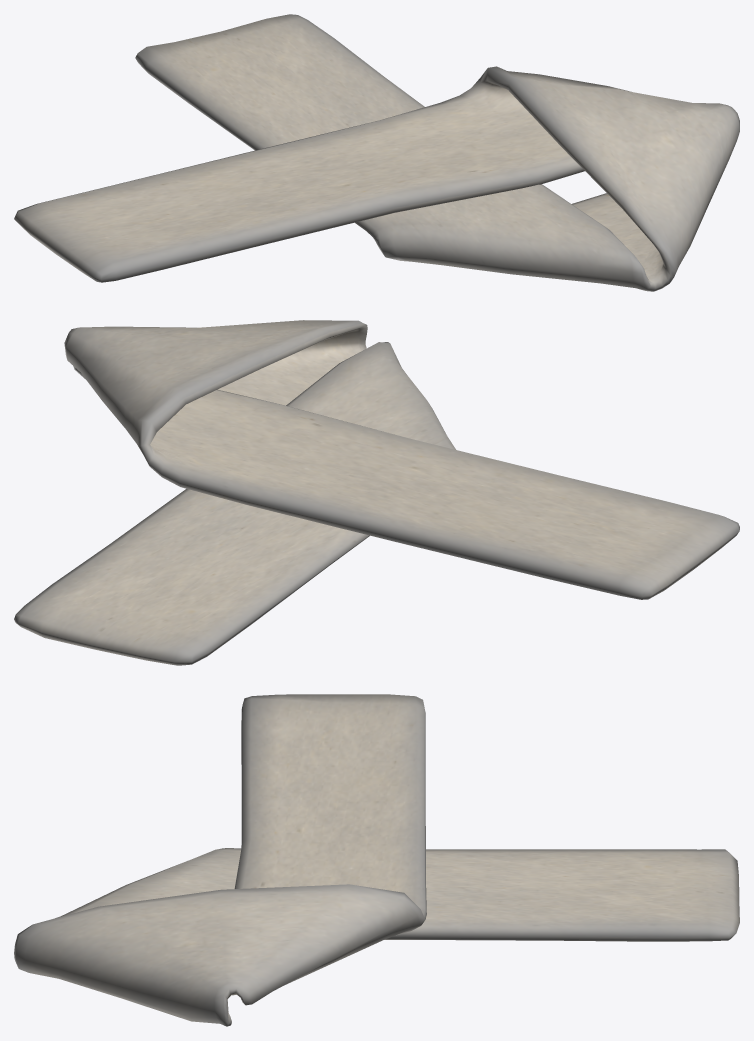
File: foldednote1.obj
3 renders of one model, top to bottom at view 1: azimuth 30°, elevation 25°; view 2: azimuth 150°, elevation 25°; view 3: azimuth 270°, elevation 25°, orthographic. The views are drawn at different scales.
Visible parts, largest first — view 1: note_low; view 2: note_low; view 3: note_low.
Part boxes in pixels (x1,y1,x2,y2): note_low: (14,14,739,291); note_low: (14,320,739,665); note_low: (14,694,739,1026).
Size of the model in its own units: 0.9091 by 0.1269 by 0.8774.
